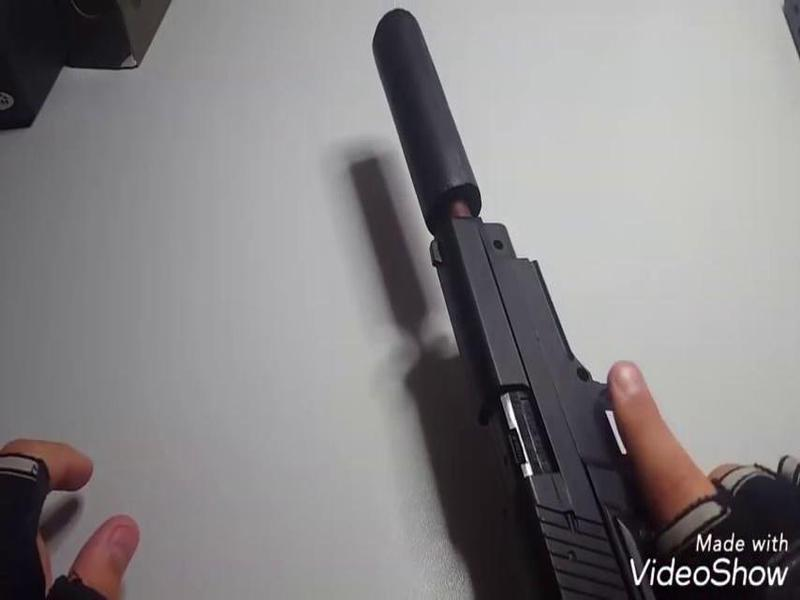Pistola: (408, 210, 704, 600)
